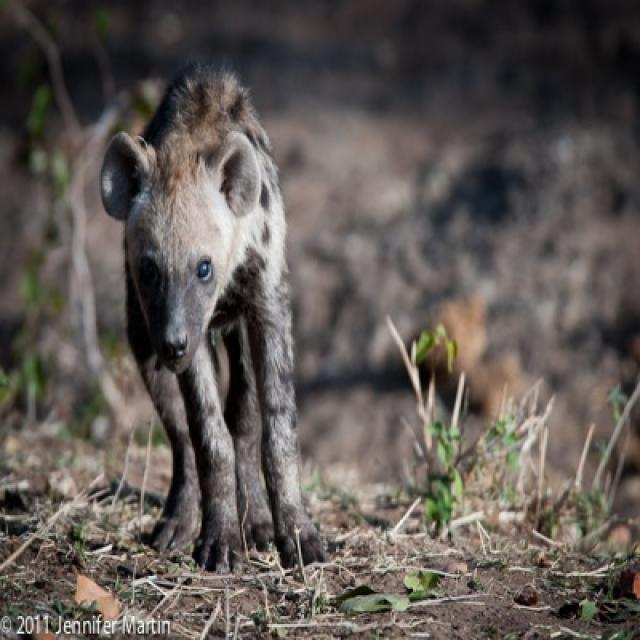hyena: (102, 66, 323, 570)
